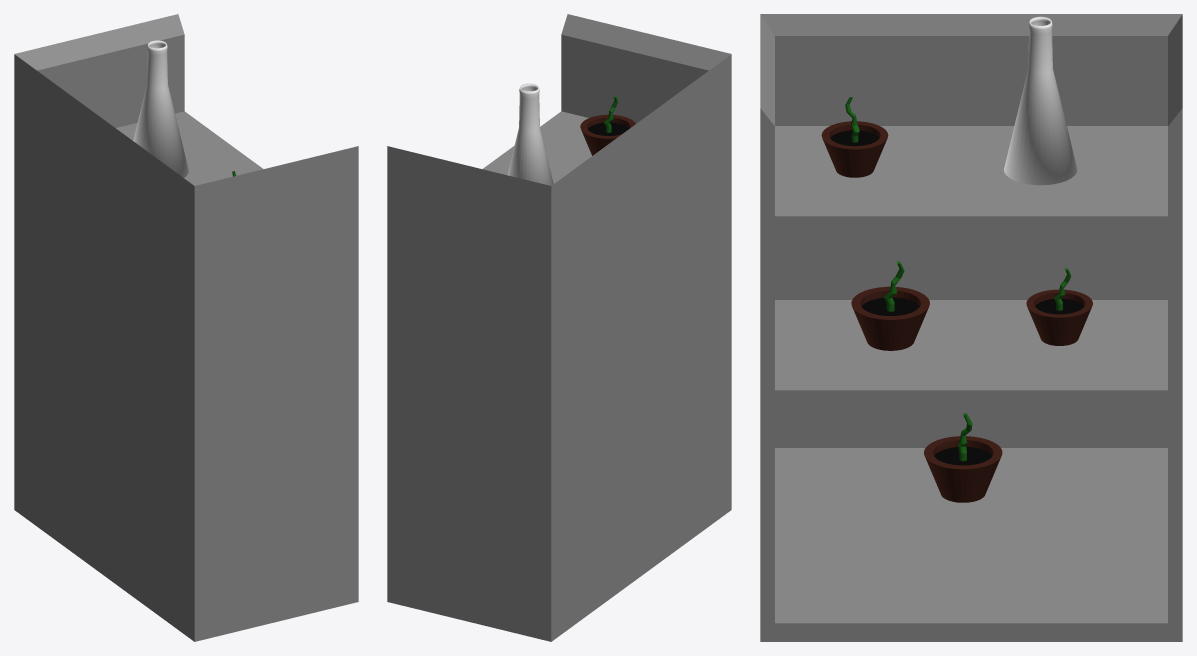
File: etagere.fbx
3 renders of one model, left to right at view 1: azimuth 30°, elevation 25°; view 2: azimuth 150°, elevation 25°; view 3: azimuth 270°, elevation 25°, orthographic. The views are drawn at different scales.
Parts seen in each view (by area): view 1: etagere; view 2: etagere; view 3: etagere.
Part boxes in pixels (x1=…): etagere: x1=14, y1=14, x2=358, y2=641; etagere: x1=387, y1=14, x2=731, y2=641; etagere: x1=760, y1=14, x2=1182, y2=641.
Size of the model in its own units: 115 by 173 by 60.51.
